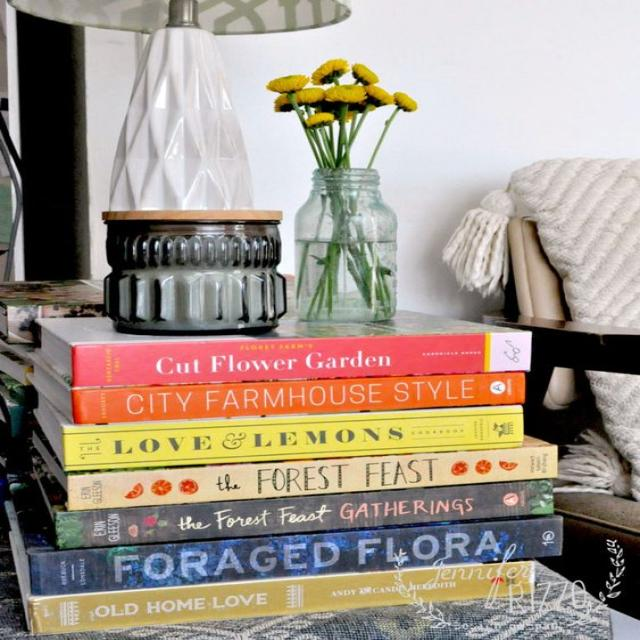book: (30, 516, 559, 594), (67, 437, 556, 510), (31, 562, 533, 633), (56, 480, 552, 549), (60, 406, 522, 472), (73, 333, 529, 387), (70, 373, 524, 423)
candle: (103, 210, 285, 335)
flowers: (268, 60, 416, 324)
